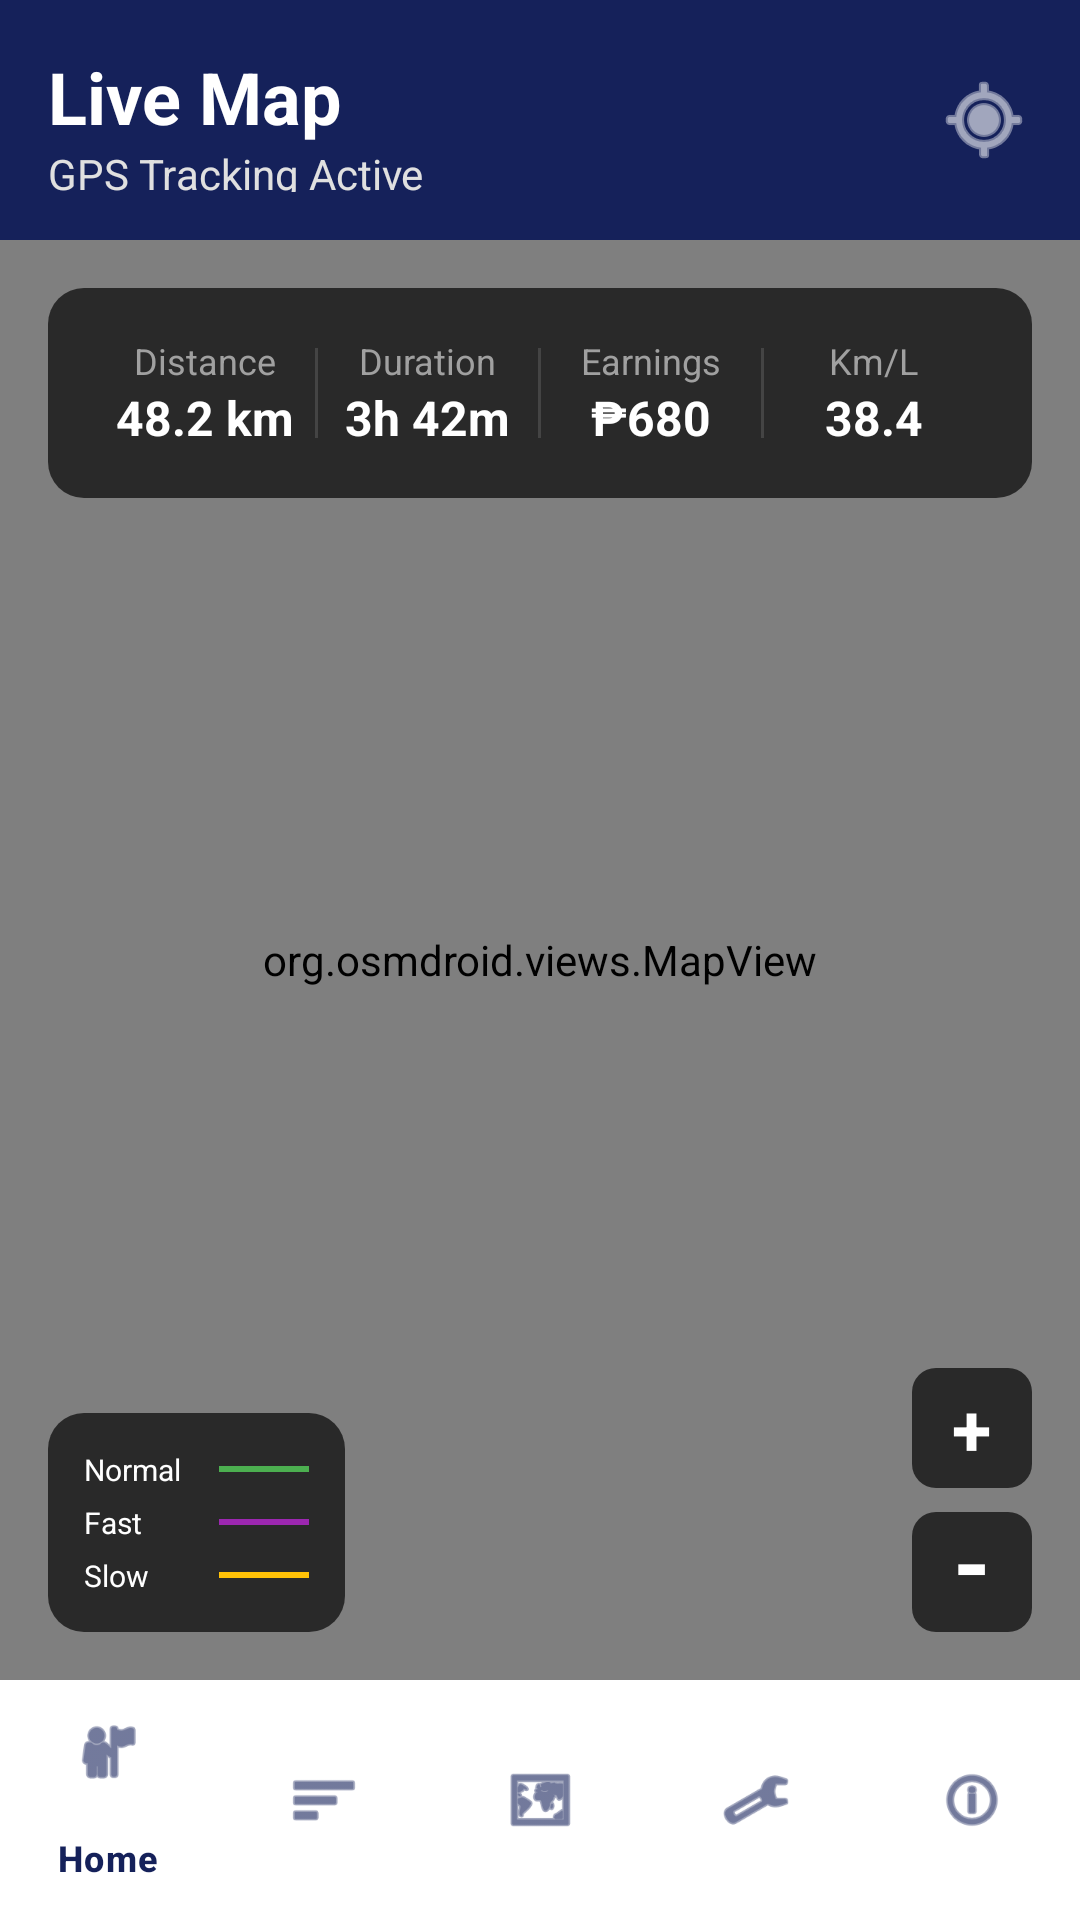

Icons on this 1080w x 1920h Android screen, each with its box as (x1, y1, x2, y2):
Locate: (946, 82, 1022, 158)
